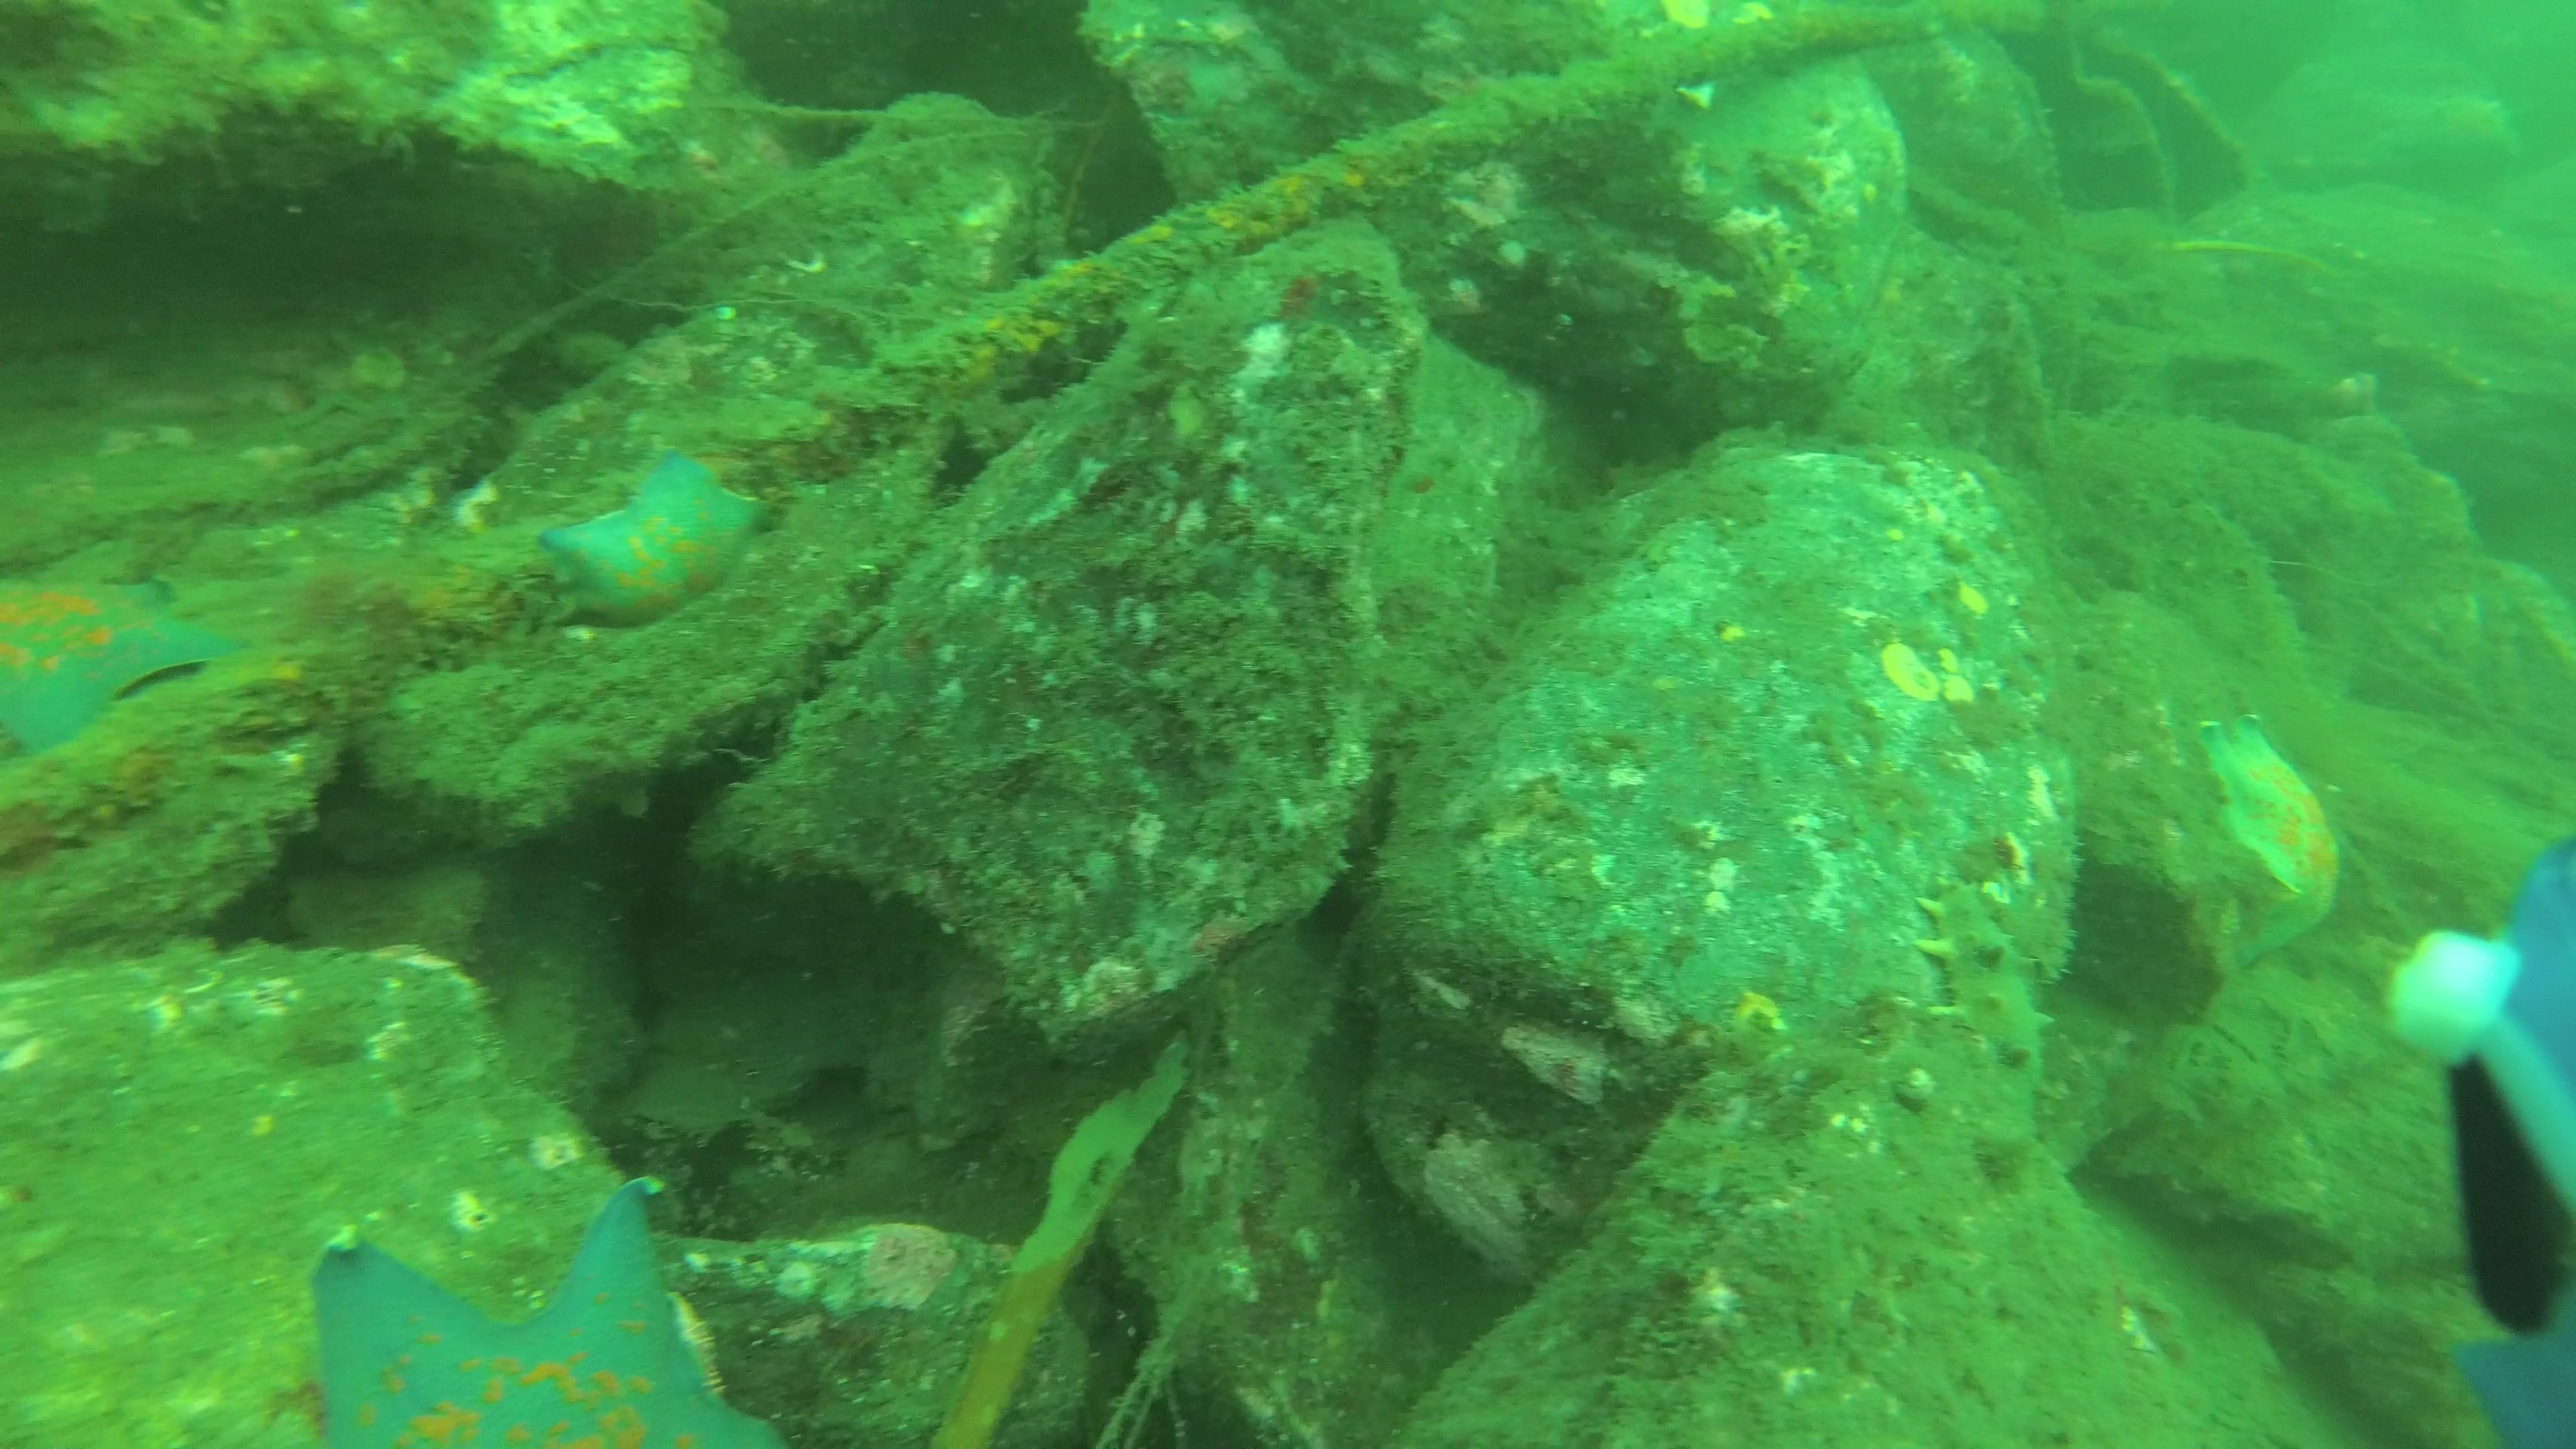holothurian: (1909, 867, 2059, 1092)
starfish: (308, 1168, 789, 1449), (525, 435, 773, 637), (4, 570, 253, 755), (2192, 702, 2344, 977)
